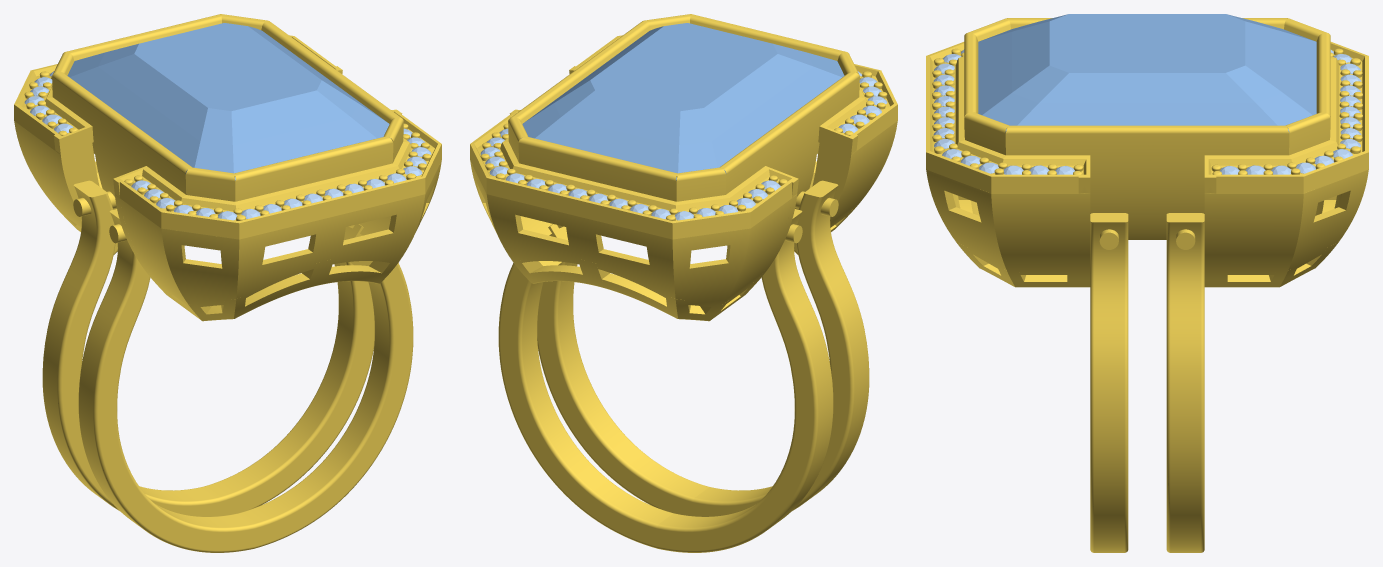
3 views of the same model, side by side, from view 1: azimuth 30°, elevation 25°; view 2: azimuth 150°, elevation 25°; view 3: azimuth 270°, elevation 25° (orthographic). The views are drawn at different scales.
Parts seen in each view (by area): view 1: LRGBD7503.3dm, Gem_Emerald; view 2: LRGBD7503.3dm, Gem_Emerald; view 3: LRGBD7503.3dm, Gem_Emerald.
Boxes of the visible parts, <box> form: LRGBD7503.3dm: <box>14,14,441,552</box>; Gem_Emerald: <box>67,23,390,180</box>; LRGBD7503.3dm: <box>470,14,897,552</box>; Gem_Emerald: <box>521,23,844,180</box>; LRGBD7503.3dm: <box>926,18,1368,552</box>; Gem_Emerald: <box>978,14,1316,132</box>.
Size of the model in its own units: 1.95 by 2.7 by 2.21.
